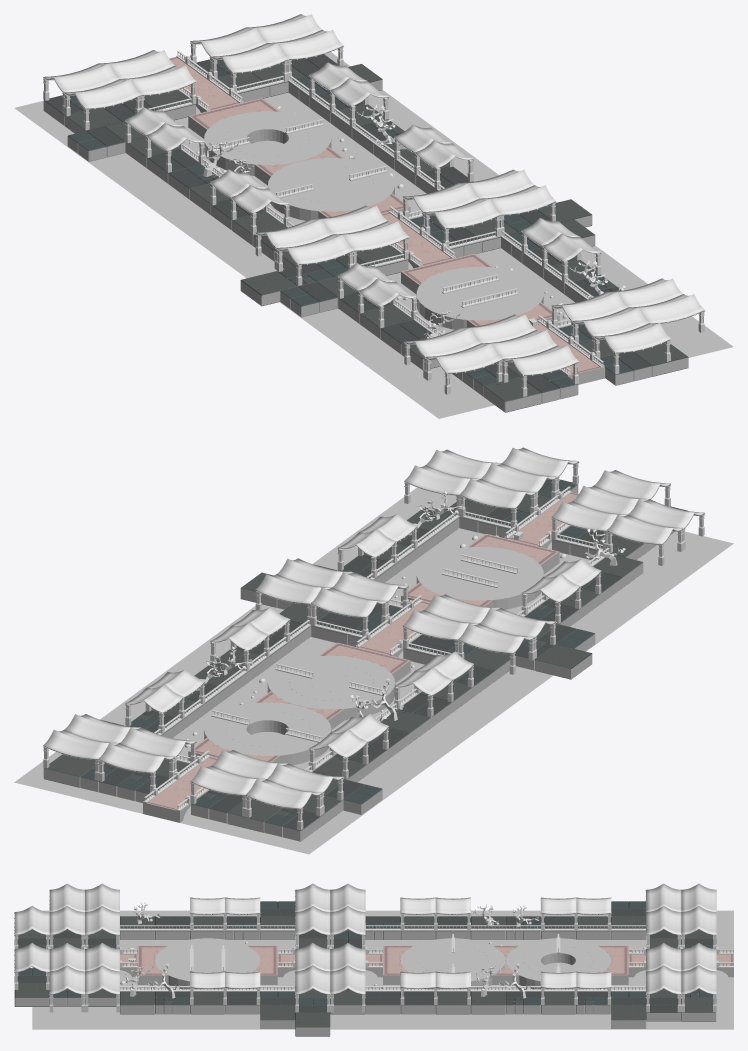
File: lvl16_world1.fbx
The picture shows the model from 3 angles, top to bottom: view 1: azimuth 30°, elevation 25°; view 2: azimuth 150°, elevation 25°; view 3: azimuth 270°, elevation 25°; orthographic projection. The views are drawn at different scales.
Parts seen in each view (by area): view 1: tent red.006, Cube.2182, Plane.121, round.003, Cube.2187, Cylinder.068, Cylinder.063, Cylinder.070, tree2.001, Cylinder.065, Cube.2103, Cube.2127 (+3 smaller); view 2: tent red.006, Cube.2182, Plane.121, round.003, Cube.2187, Cylinder.063, Cylinder.068, Cylinder.070, tree2.001, Cylinder.065, Cube.2127, Cube.2103 (+3 smaller); view 3: tent red.006, Cube.2182, Plane.121, Cube.2187, round.003, Cylinder.068, Cylinder.063, tree2.001, Cylinder.070, Cylinder.065, Cube.2150, Cube.2157 (+5 smaller).
Part boxes in pixels (box(x1,y1,x2,y2)): tent red.006: box(43, 14, 705, 396); Cube.2182: box(43, 54, 688, 412); Plane.121: box(14, 52, 733, 418); round.003: box(416, 266, 543, 329); Cube.2187: box(148, 75, 593, 335); Cylinder.068: box(204, 111, 331, 175); Cylinder.063: box(268, 158, 394, 220); Cylinder.070: box(225, 120, 309, 155); tree2.001: box(202, 104, 625, 338); Cylinder.065: box(289, 167, 373, 202); Cube.2103: box(382, 212, 451, 268); Cube.2127: box(169, 57, 239, 112); tent red.006: box(43, 447, 705, 830); Cube.2182: box(43, 479, 687, 841); Plane.121: box(14, 487, 733, 854); round.003: box(416, 547, 543, 609); Cube.2187: box(154, 511, 610, 771); Cylinder.063: box(267, 655, 395, 720); Cylinder.068: box(204, 702, 331, 765); Cylinder.070: box(225, 711, 309, 746); tree2.001: box(197, 491, 625, 721); Cylinder.065: box(289, 664, 373, 700); Cube.2127: box(143, 756, 217, 822); Cube.2103: box(359, 601, 429, 657); tent red.006: box(14, 883, 716, 1012); Cube.2182: box(14, 901, 716, 1036); Plane.121: box(32, 910, 733, 1029); Cube.2187: box(116, 925, 649, 991); round.003: box(155, 938, 260, 989); Cylinder.068: box(506, 938, 610, 989); Cylinder.063: box(400, 938, 505, 989); tree2.001: box(125, 901, 538, 998); Cylinder.070: box(523, 945, 593, 972); Cylinder.065: box(418, 945, 488, 972); Cube.2150: box(260, 945, 277, 984); Cube.2157: box(611, 945, 628, 984).
Size of the model in its own units: 18000 by 2601 by 41037.
